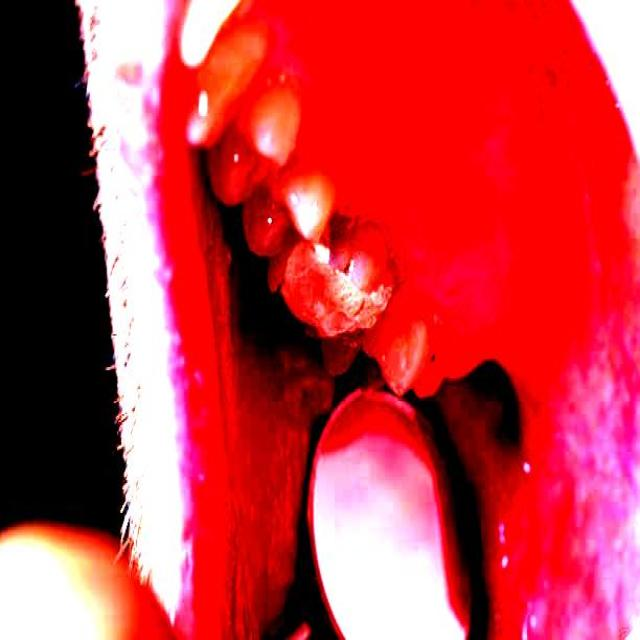caries: (284, 235, 386, 343)
